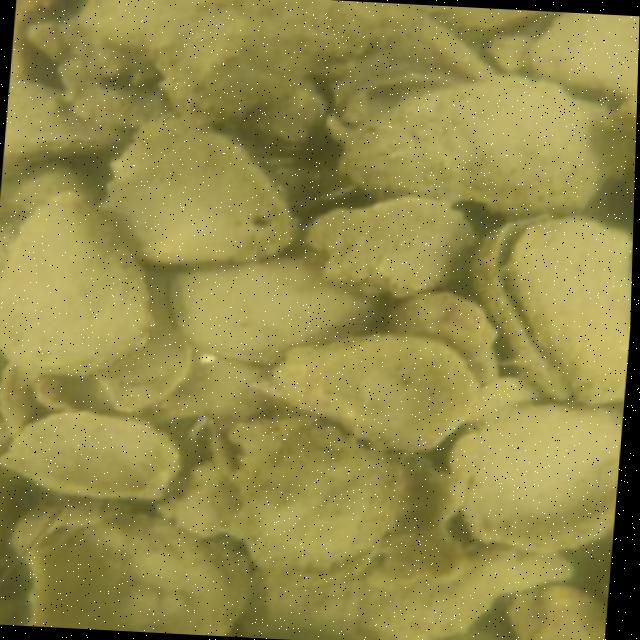Oyster-Indeterminate: (348, 89, 601, 221), (237, 544, 579, 640), (150, 0, 417, 120), (0, 192, 154, 381), (104, 117, 303, 263), (447, 400, 622, 555), (166, 251, 390, 364), (274, 336, 480, 451), (228, 430, 383, 567), (0, 410, 189, 505), (308, 205, 475, 294), (1, 81, 122, 184), (518, 13, 640, 99), (384, 294, 499, 385)
Oyster-Open: (478, 214, 633, 409)
